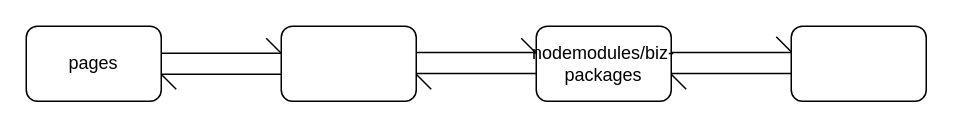
The diagram is 956 pixels wide and 128 high, and some of its shapes have lost their labels. The centre of each missing label's shape, as x and y in pixels:
"components" belongs at [348,63].
"nodemodules/biz-resource" belongs at [858,63].
